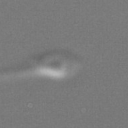normal: (1, 63, 39, 81)
